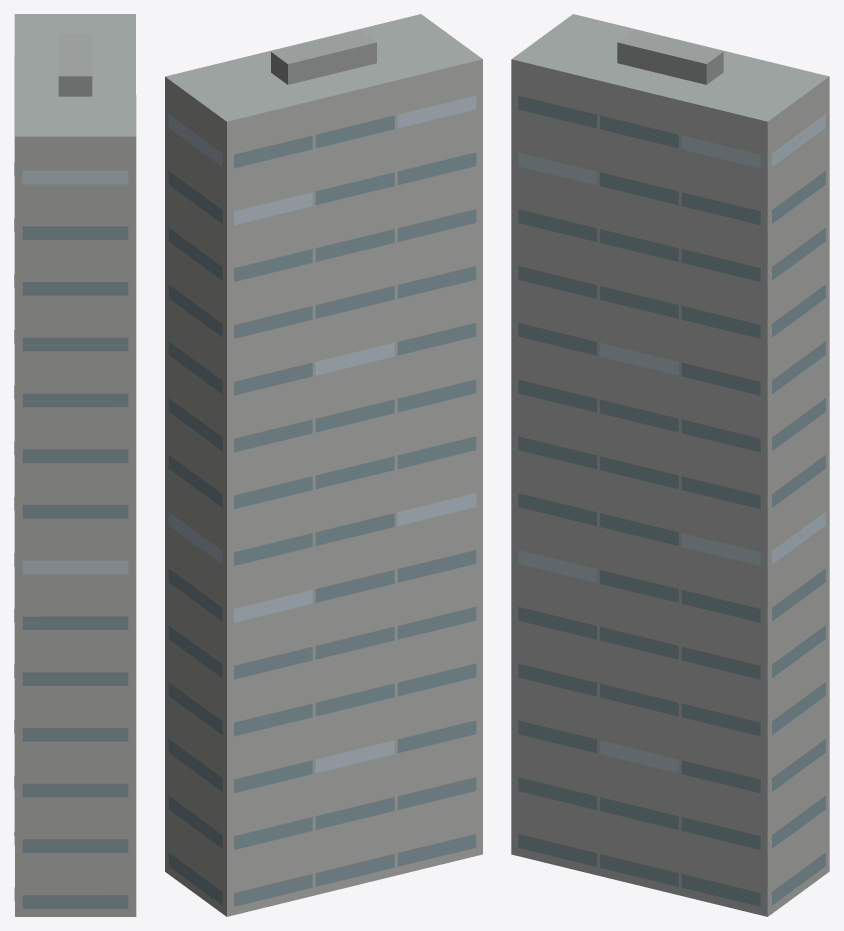
Rendered from fallback-jamsil-ricenz-253.glb.
3 views of the same model, side by side, from view 1: azimuth 30°, elevation 25°; view 2: azimuth 150°, elevation 25°; view 3: azimuth 270°, elevation 25° (orthographic).
Parts seen in each view (by area): view 1: fallback-jamsil-ricenz-253; view 2: fallback-jamsil-ricenz-253; view 3: fallback-jamsil-ricenz-253.
Boxes of the visible parts, box(x1,y1,x2,y2) form: fallback-jamsil-ricenz-253: box(14, 14, 136, 916); fallback-jamsil-ricenz-253: box(165, 14, 482, 916); fallback-jamsil-ricenz-253: box(511, 14, 829, 916).
Size of the model in its own units: 26.6 by 94 by 33.2.
